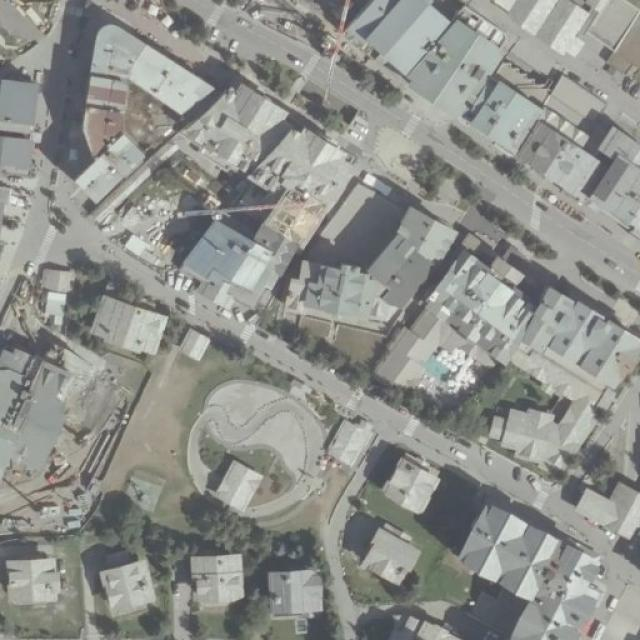immeuble: (410, 218, 630, 378), (280, 148, 460, 322), (189, 55, 331, 191), (82, 14, 213, 160), (489, 366, 618, 470), (464, 505, 596, 601), (179, 218, 282, 310)
maison: (349, 0, 511, 114), (520, 109, 640, 222), (469, 62, 552, 166), (92, 290, 161, 362), (0, 549, 66, 613), (0, 142, 38, 236), (218, 456, 268, 516), (368, 530, 418, 580), (326, 412, 373, 465), (0, 0, 47, 53), (104, 556, 148, 610), (389, 452, 436, 502), (276, 573, 320, 622), (193, 556, 234, 606), (0, 83, 32, 137), (38, 263, 76, 298)
